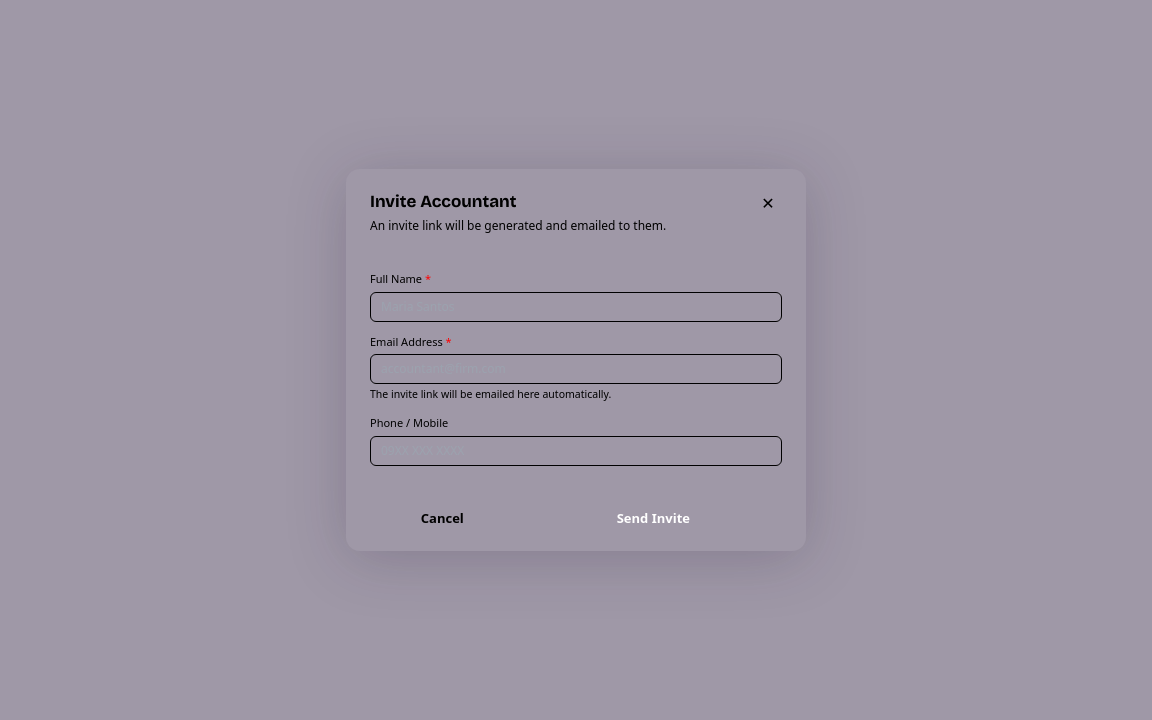
Scenario: AccountantModal — invite mode › shows validation errors when submitted empty
Click the button "Send Invite": {"x": 653, "y": 518} left=525, top=500, right=782, bottom=537
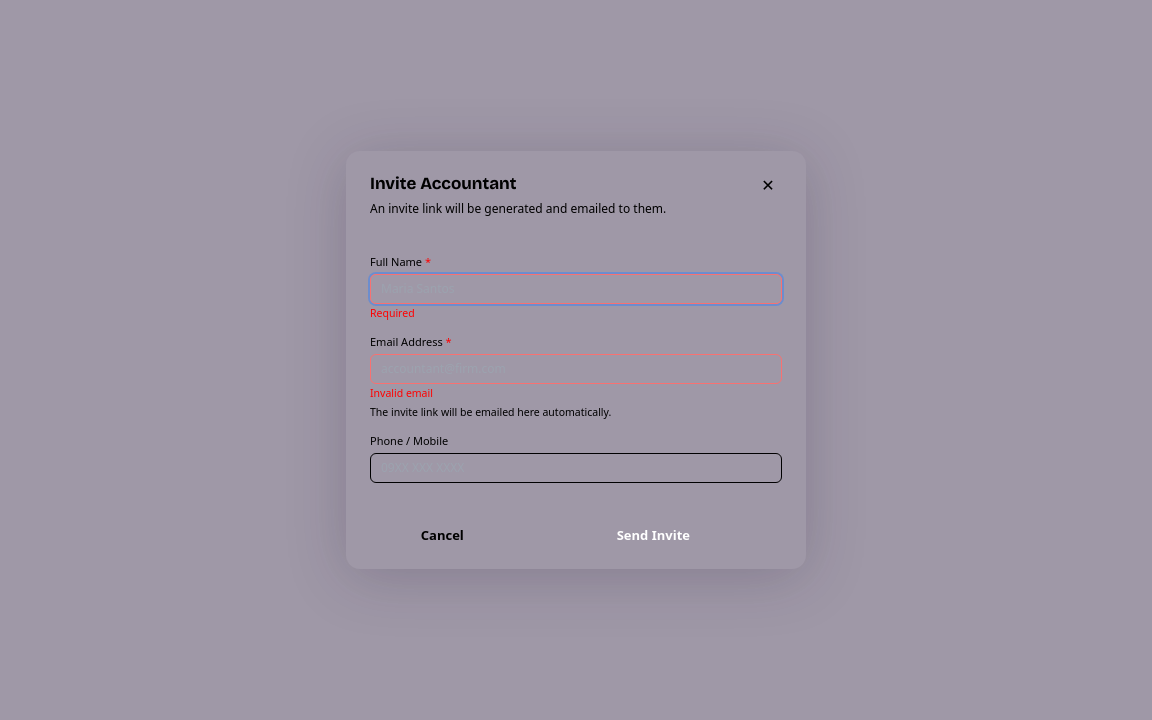
Result: the text "Required" is shown at left=370, top=306, right=415, bottom=320
